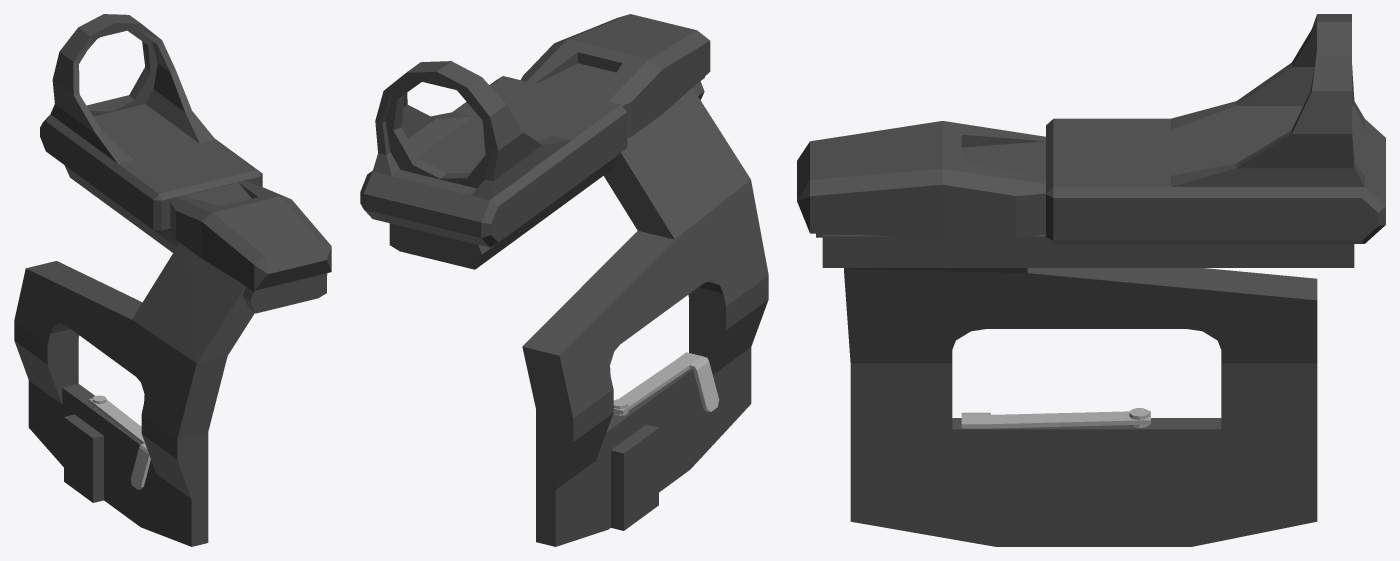
Rendered from Kobra.fbx.
The picture shows the model from 3 angles, left to right: view 1: azimuth 30°, elevation 25°; view 2: azimuth 150°, elevation 25°; view 3: azimuth 270°, elevation 25°; orthographic projection. The views are drawn at different scales.
Parts seen in each view (by area): view 1: Reflex; view 2: Reflex; view 3: Reflex.
Boxes of the visible parts, x1,y1,x2,y2 form: Reflex: [14, 14, 331, 546]; Reflex: [360, 14, 768, 546]; Reflex: [797, 14, 1385, 546].
Bounding box in the file's own units: 23.83 × 58.5 × 54.31.
1 material, 1 textured.
